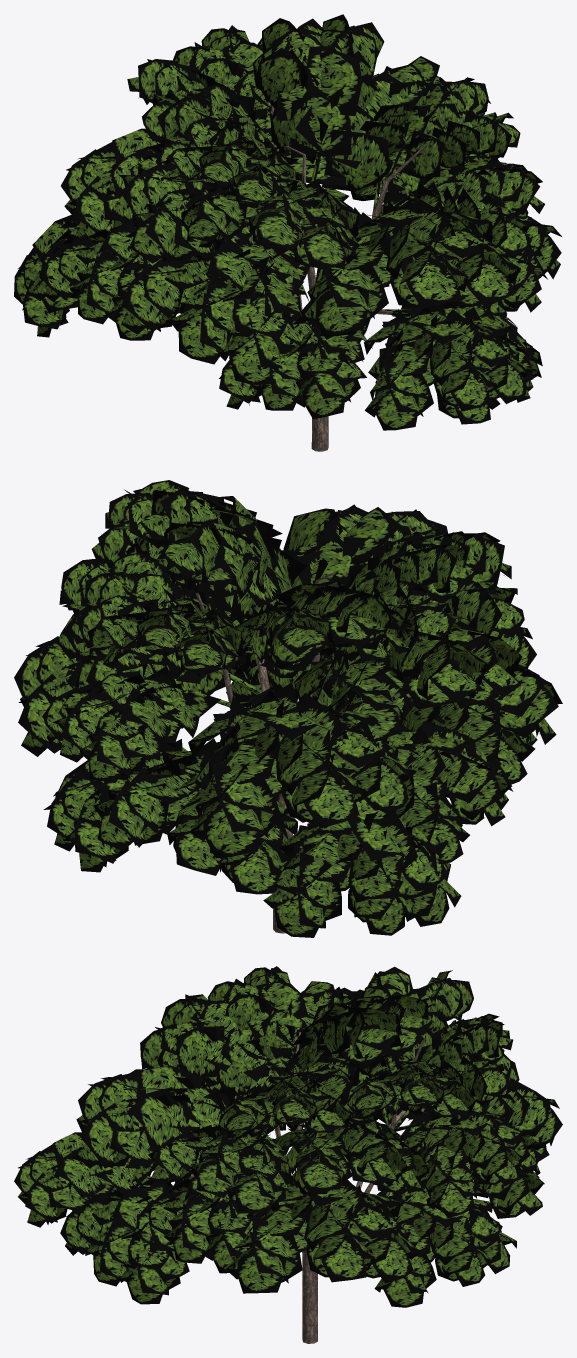
File: tree_leafy.obj
3 renders of one model, top to bottom at view 1: azimuth 30°, elevation 25°; view 2: azimuth 150°, elevation 25°; view 3: azimuth 270°, elevation 25°, orthographic. The views are drawn at different scales.
Visible parts, largest first — view 1: Tree.002_Plane.105_Tree.002_Plane.105_Material.002, Tree.002_Plane.105_Tree.002_Plane.105_Material.004; view 2: Tree.002_Plane.105_Tree.002_Plane.105_Material.002, Tree.002_Plane.105_Tree.002_Plane.105_Material.004; view 3: Tree.002_Plane.105_Tree.002_Plane.105_Material.002, Tree.002_Plane.105_Tree.002_Plane.105_Material.004.
Part boxes in pixels (x1=…): Tree.002_Plane.105_Tree.002_Plane.105_Material.002: x1=14, y1=14, x2=561, y2=430; Tree.002_Plane.105_Tree.002_Plane.105_Material.004: x1=271, y1=105, x2=426, y2=451; Tree.002_Plane.105_Tree.002_Plane.105_Material.002: x1=14, y1=480, x2=562, y2=937; Tree.002_Plane.105_Tree.002_Plane.105_Material.004: x1=196, y1=572, x2=334, y2=933; Tree.002_Plane.105_Tree.002_Plane.105_Material.002: x1=14, y1=966, x2=562, y2=1307; Tree.002_Plane.105_Tree.002_Plane.105_Material.004: x1=190, y1=1032, x2=425, y2=1343.
Size of the model in its own units: 6.43 by 5.49 by 7.59.
